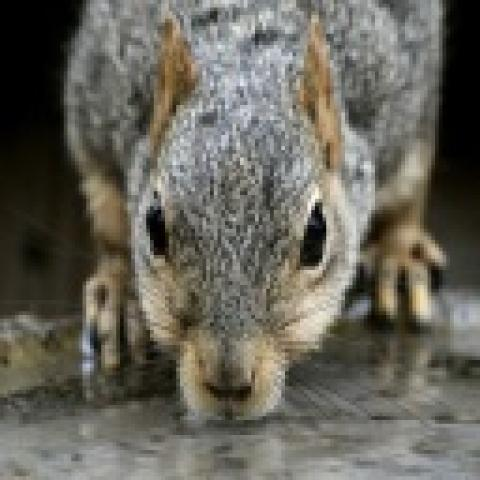small_animal: (56, 0, 450, 424)
